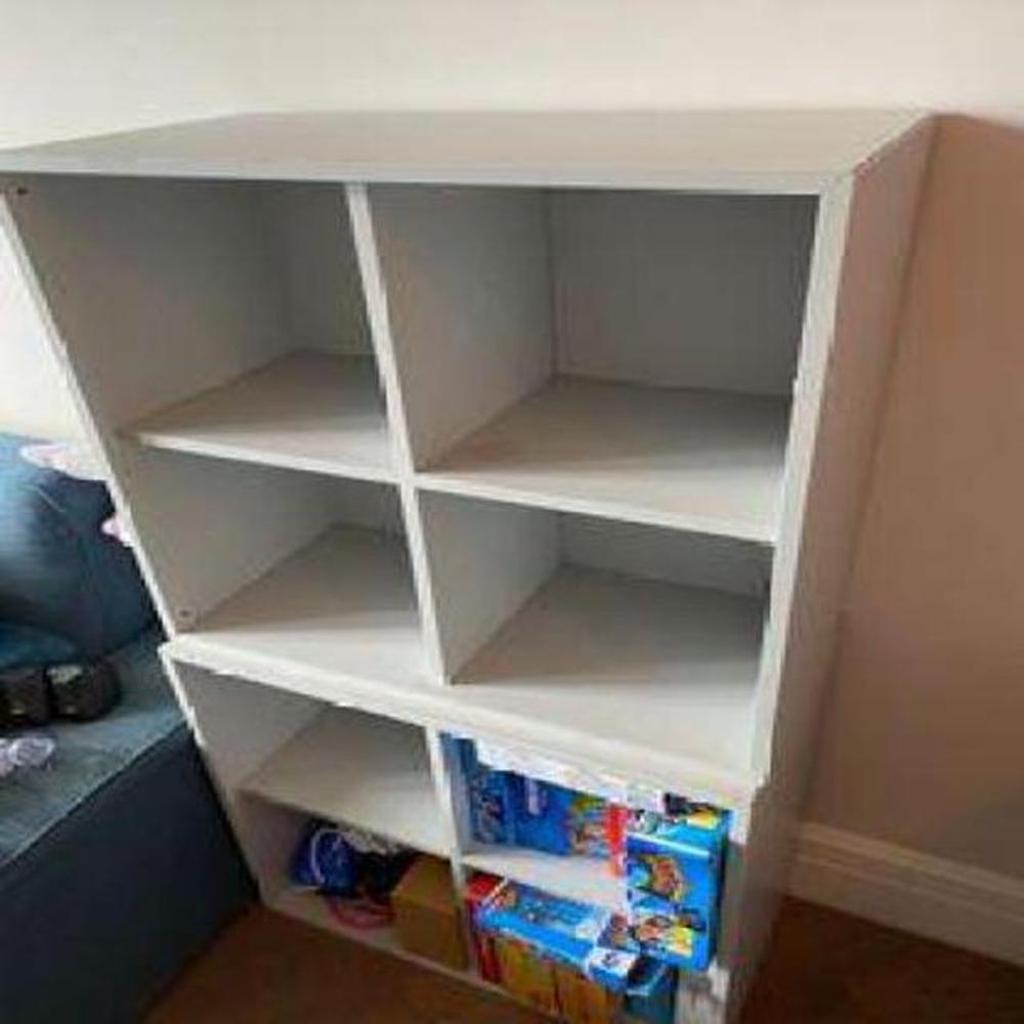lamp: (0, 101, 940, 1022)
